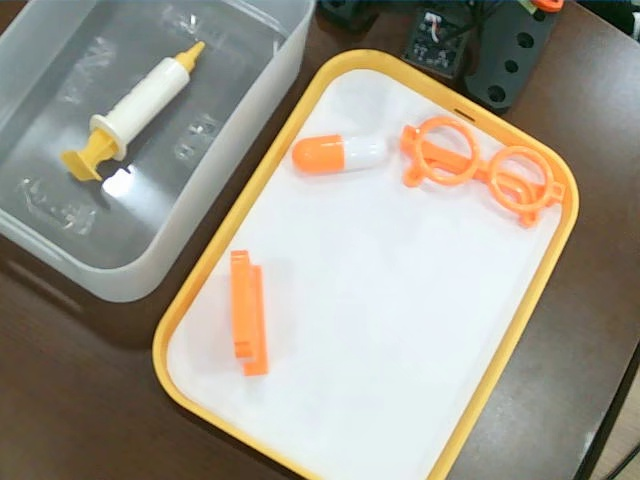pill: (294, 129, 390, 182)
syringe: (64, 39, 210, 185)
